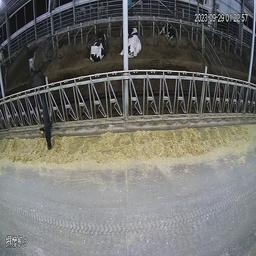cow: (27, 74, 56, 147), (127, 21, 145, 57), (89, 29, 110, 59), (160, 20, 178, 40)
